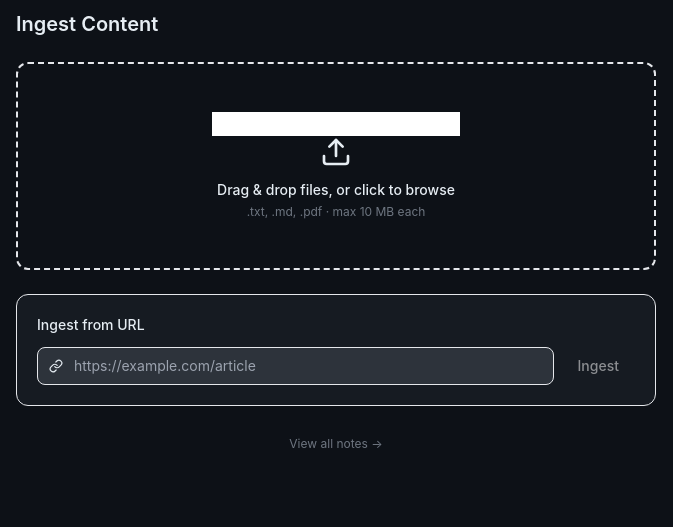
Scenario: IngestPage › URL ingest error shows error banner
This screenshot has width=673, height=527.
Type "https://bad.url" into the field with placeholder "https://example.com/article".
click(295, 366); type("https://bad.url")  # box 37,347 -> 554,385
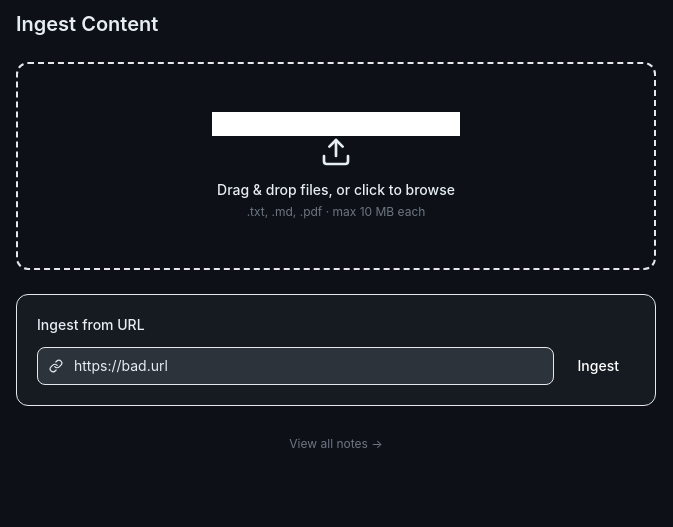
Click the button "Ingest".
click(598, 366)  # box 562,347 -> 635,385
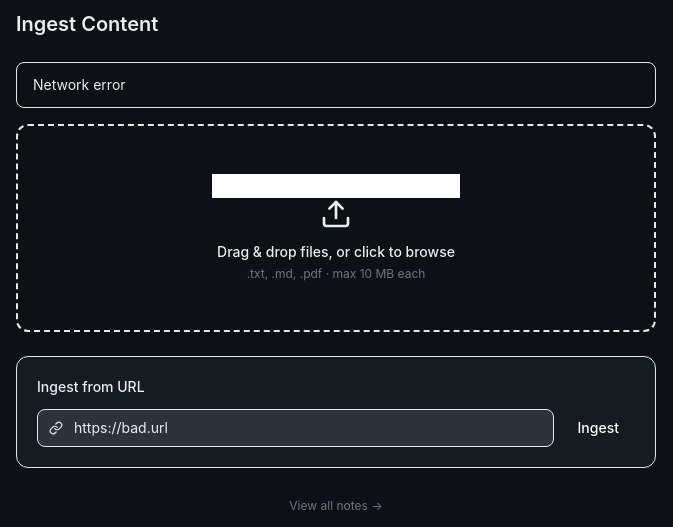
Expected: the text "Network error" is shown, 16,62 -> 656,108
